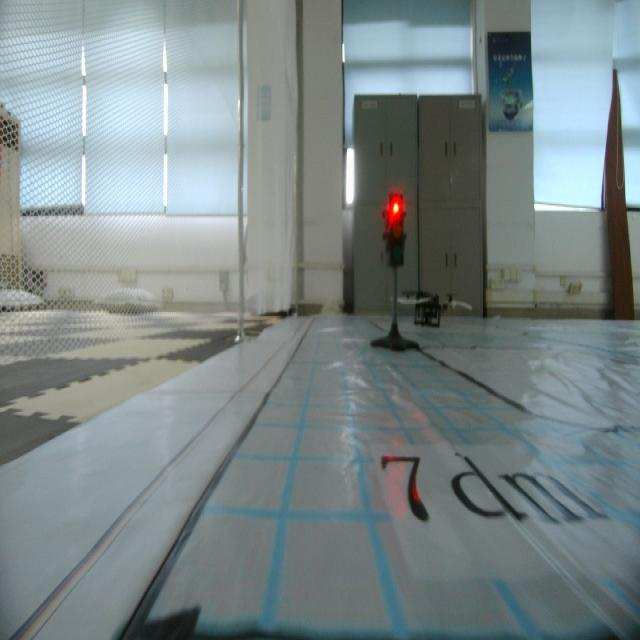red: (383, 191, 409, 273)
